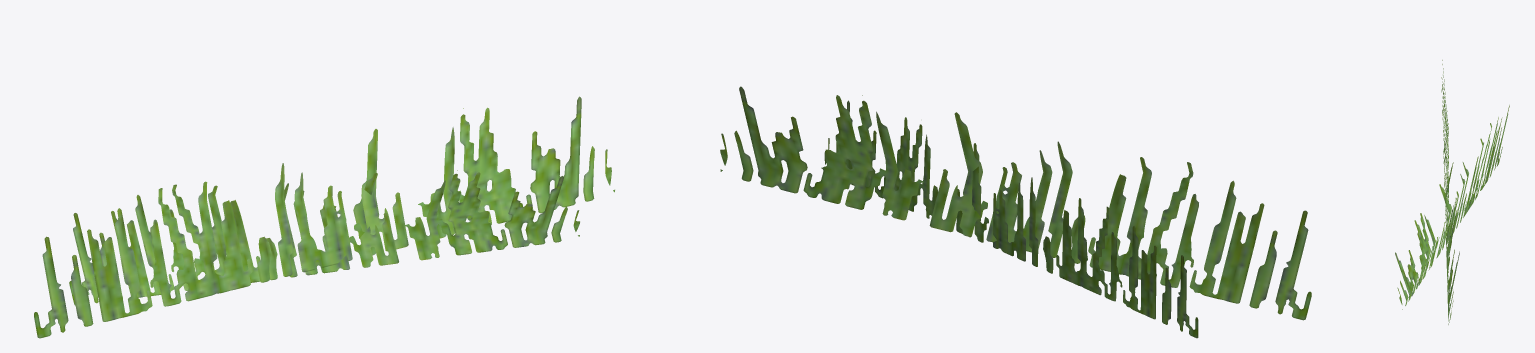
Rendered from grass.fbx.
The picture shows the model from 3 angles, left to right: view 1: azimuth 30°, elevation 25°; view 2: azimuth 150°, elevation 25°; view 3: azimuth 270°, elevation 25°; orthographic projection. The views are drawn at different scales.
Parts seen in each view (by area): view 1: PSX_Grass; view 2: PSX_Grass; view 3: PSX_Grass.
Part boxes in pixels (bbox=[...]): PSX_Grass: bbox=[34, 96, 614, 338]; PSX_Grass: bbox=[720, 86, 1311, 338]; PSX_Grass: bbox=[1395, 60, 1509, 324].
Bounding box in the file's own units: 239 × 61.51 × 66.18.
1 material, 1 textured.
